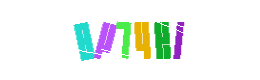1: (91, 0, 171, 80)
4: (92, 0, 172, 80)
8: (44, 0, 124, 80)
K: (102, 0, 182, 80)
L: (122, 0, 202, 80)
V: (90, 0, 170, 80)
